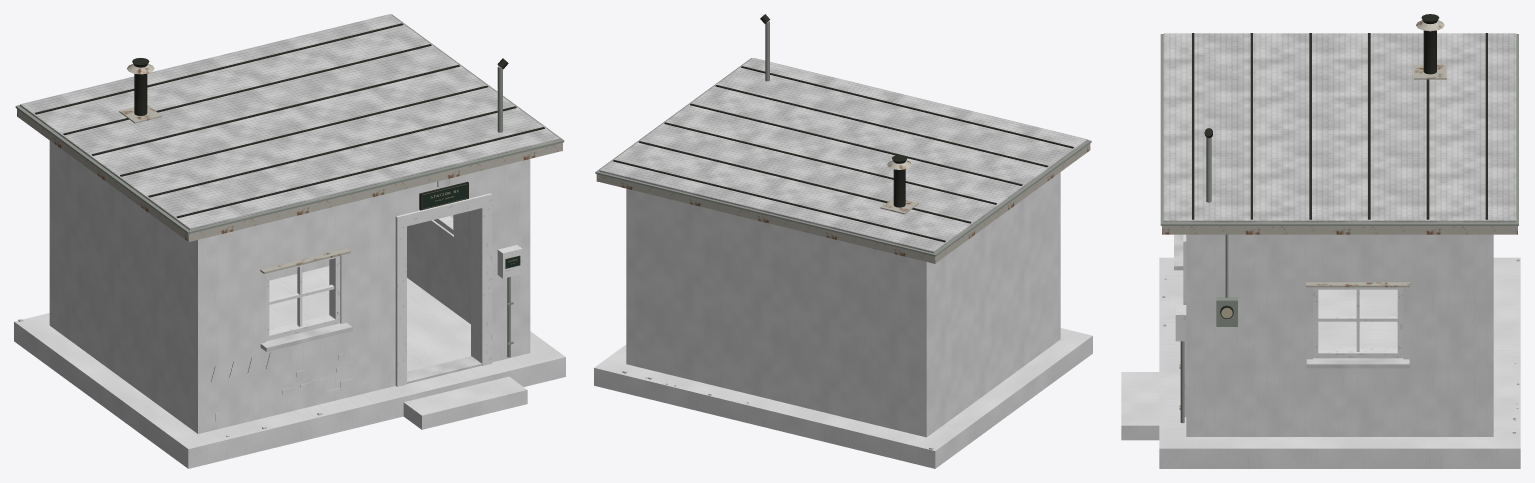
The model's file is SM_FieldStation_Hut_Shell_LOD1.glb.
3 views of the same model, side by side, from view 1: azimuth 30°, elevation 25°; view 2: azimuth 150°, elevation 25°; view 3: azimuth 270°, elevation 25° (orthographic). The views are drawn at different scales.
Visible parts, largest first — view 1: SM_FieldStation_Hut_Shell_LOD1; view 2: SM_FieldStation_Hut_Shell_LOD1; view 3: SM_FieldStation_Hut_Shell_LOD1.
Boxes of the visible parts, box(x1,y1,x2,y2) form: SM_FieldStation_Hut_Shell_LOD1: box(14, 14, 565, 468); SM_FieldStation_Hut_Shell_LOD1: box(594, 14, 1092, 468); SM_FieldStation_Hut_Shell_LOD1: box(1121, 14, 1520, 468).
Bounding box in the file's own units: 5 × 3.92 × 4.42.
Materials: 14 (10 with a texture image).
